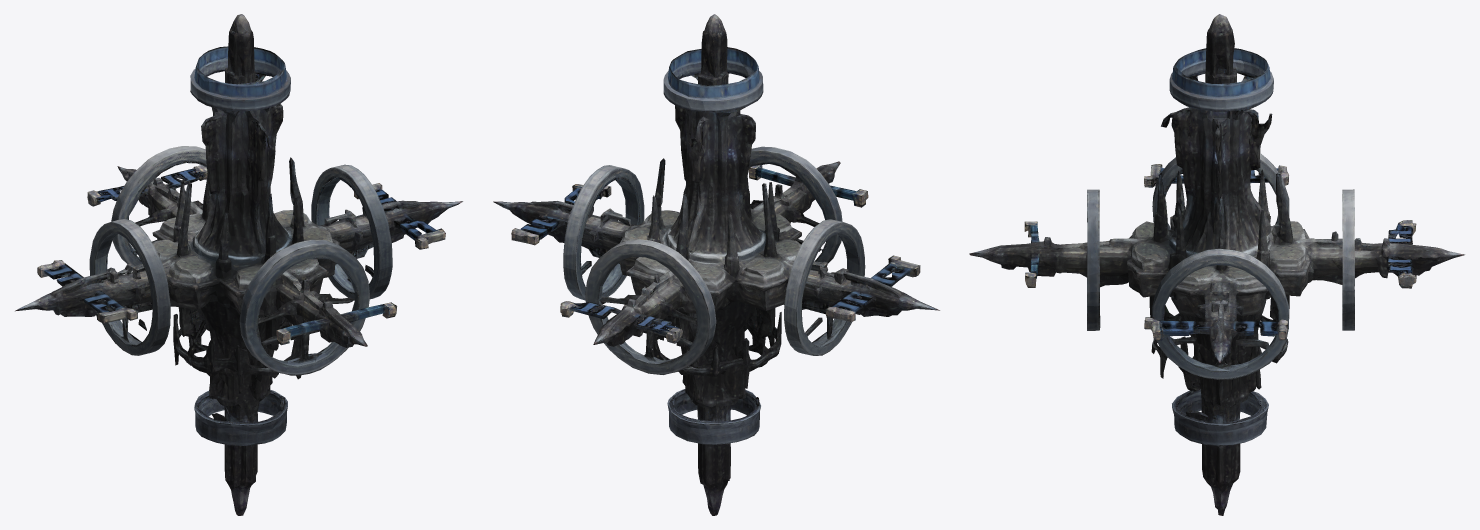
File: Station.glb
3 renders of one model, left to right at view 1: azimuth 30°, elevation 25°; view 2: azimuth 150°, elevation 25°; view 3: azimuth 270°, elevation 25°, orthographic.
Parts seen in each view (by area): view 1: world; view 2: world; view 3: world.
Part boxes in pixels (x1=…): world: x1=15, y1=14, x2=462, y2=515; world: x1=493, y1=14, x2=939, y2=515; world: x1=969, y1=14, x2=1464, y2=515.
Size of the model in its own units: 0.9332 by 0.9968 by 0.894.
Materials: 1 (1 with a texture image).
